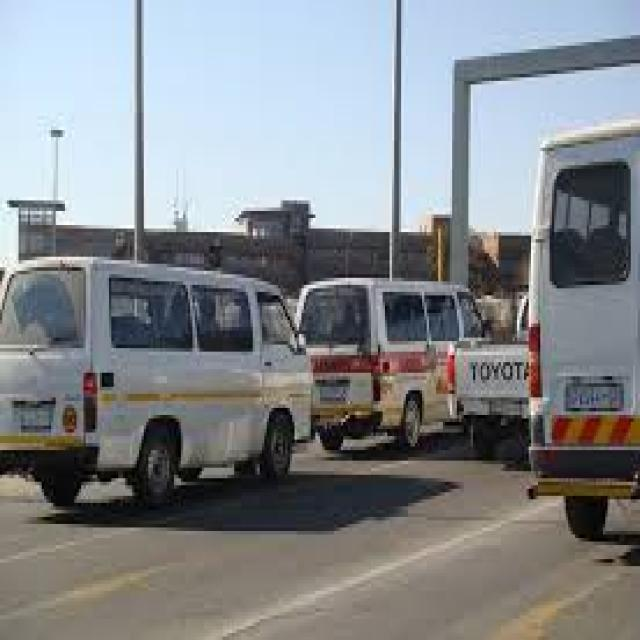MiniBus taxi: (2, 250, 311, 528), (297, 278, 494, 460)
